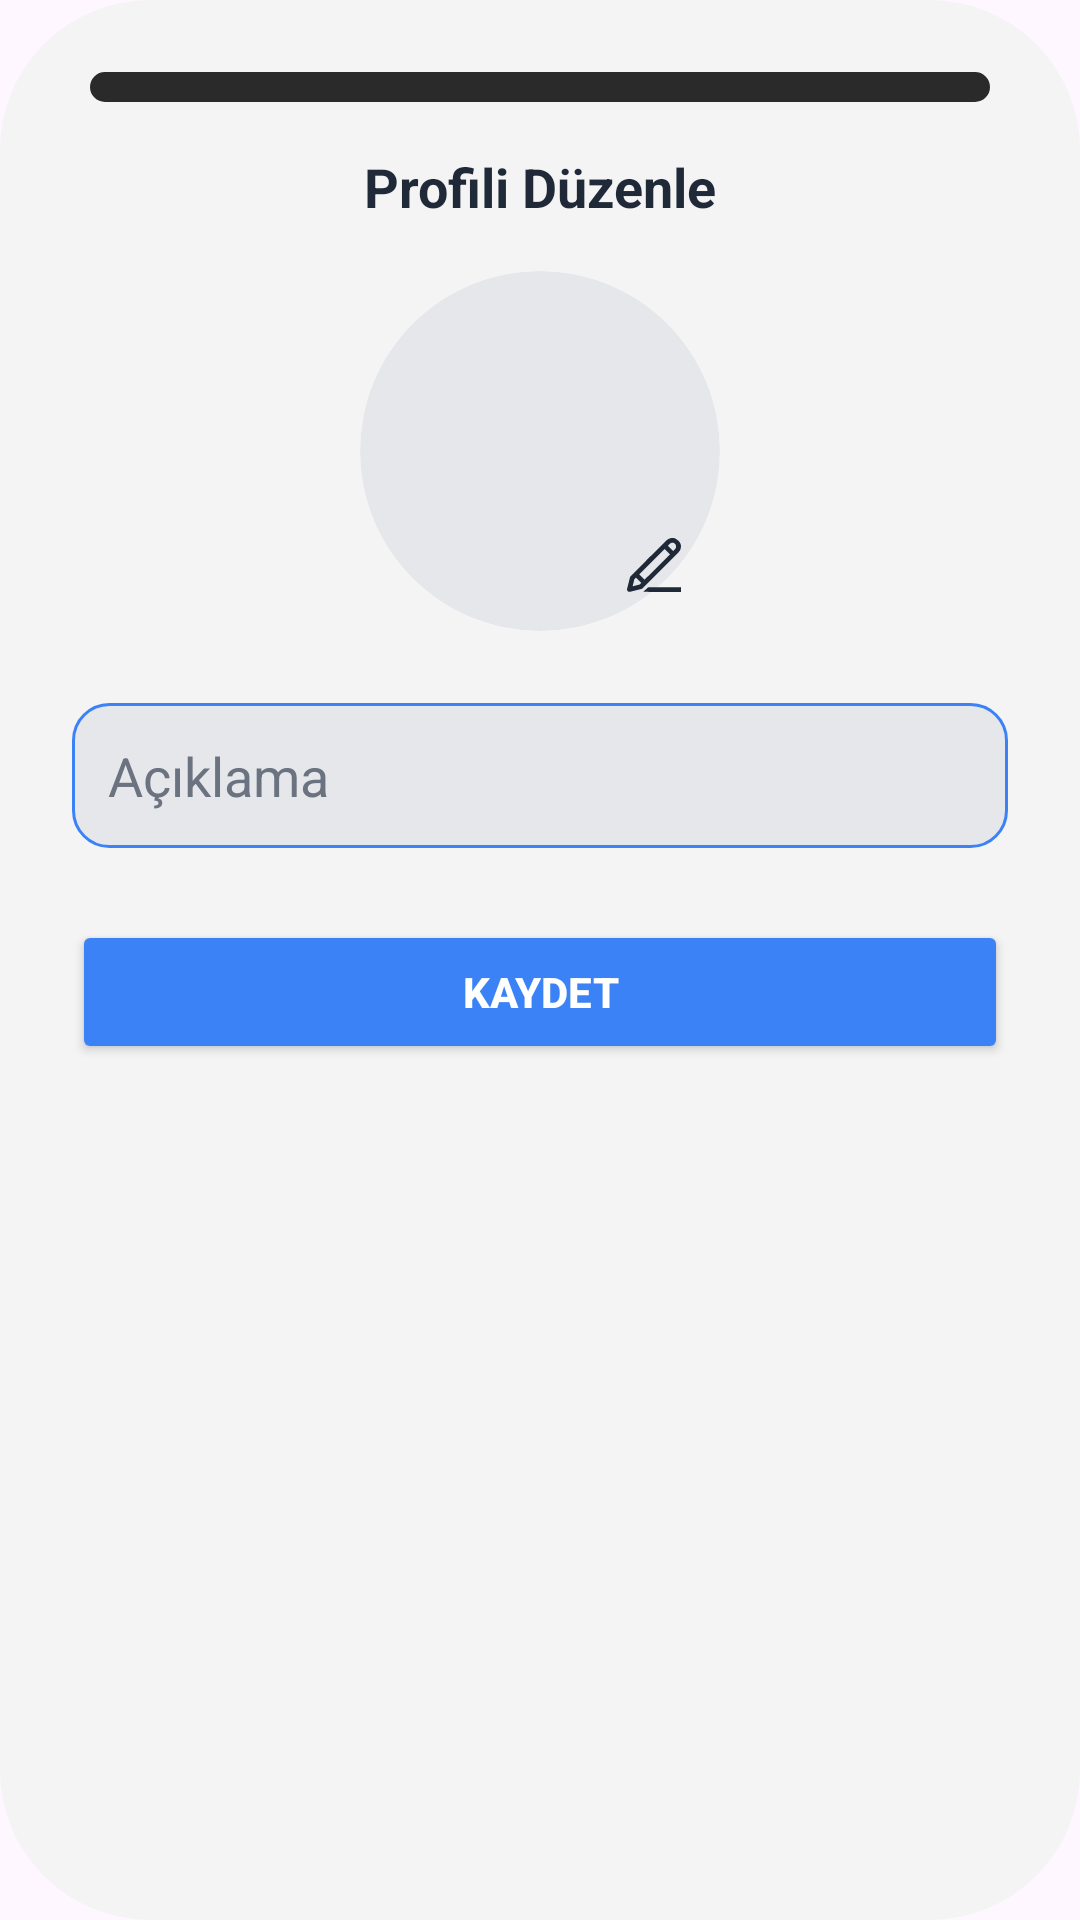

Locate icon controls on the screen. Image size 1080px×1920px, boxes as [x1,y1,x2,y2].
Fotoğraf Değiştir: [627,538,681,592]
